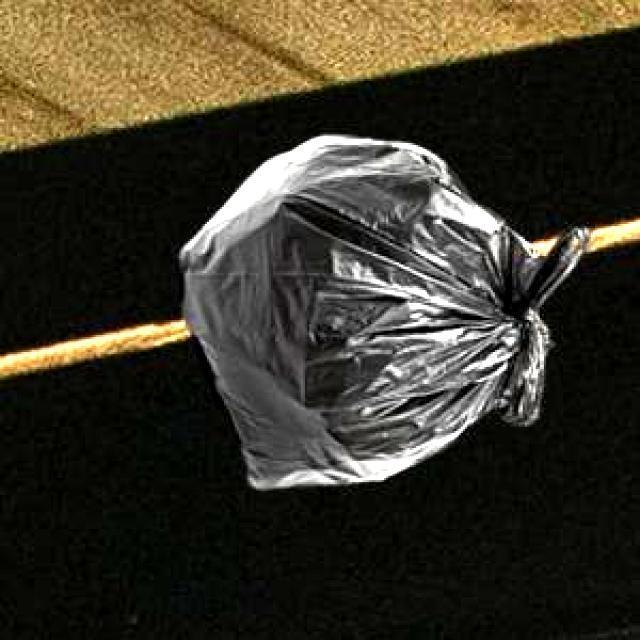Bolsa-de-nilon: (178, 135, 599, 496)
